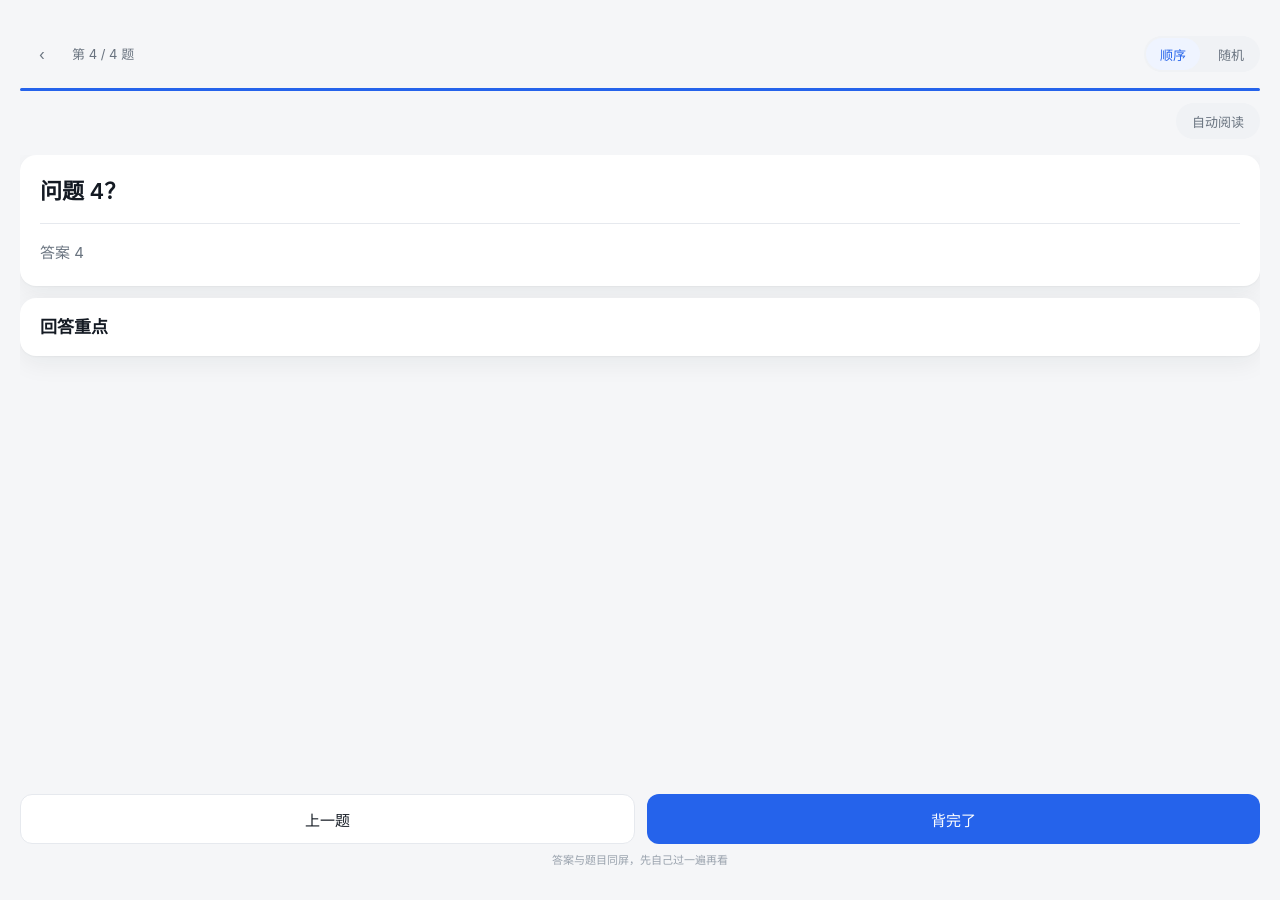
it: Recite · 边界 › 最后一题：按钮变成「背完了」，点完提示这一轮背完了
Check: the text "第 4 / 4 题" is shown, box [72,46,134,62]
Step 1. Click the button "背完了" → (954, 819), box [647,794,1260,844]
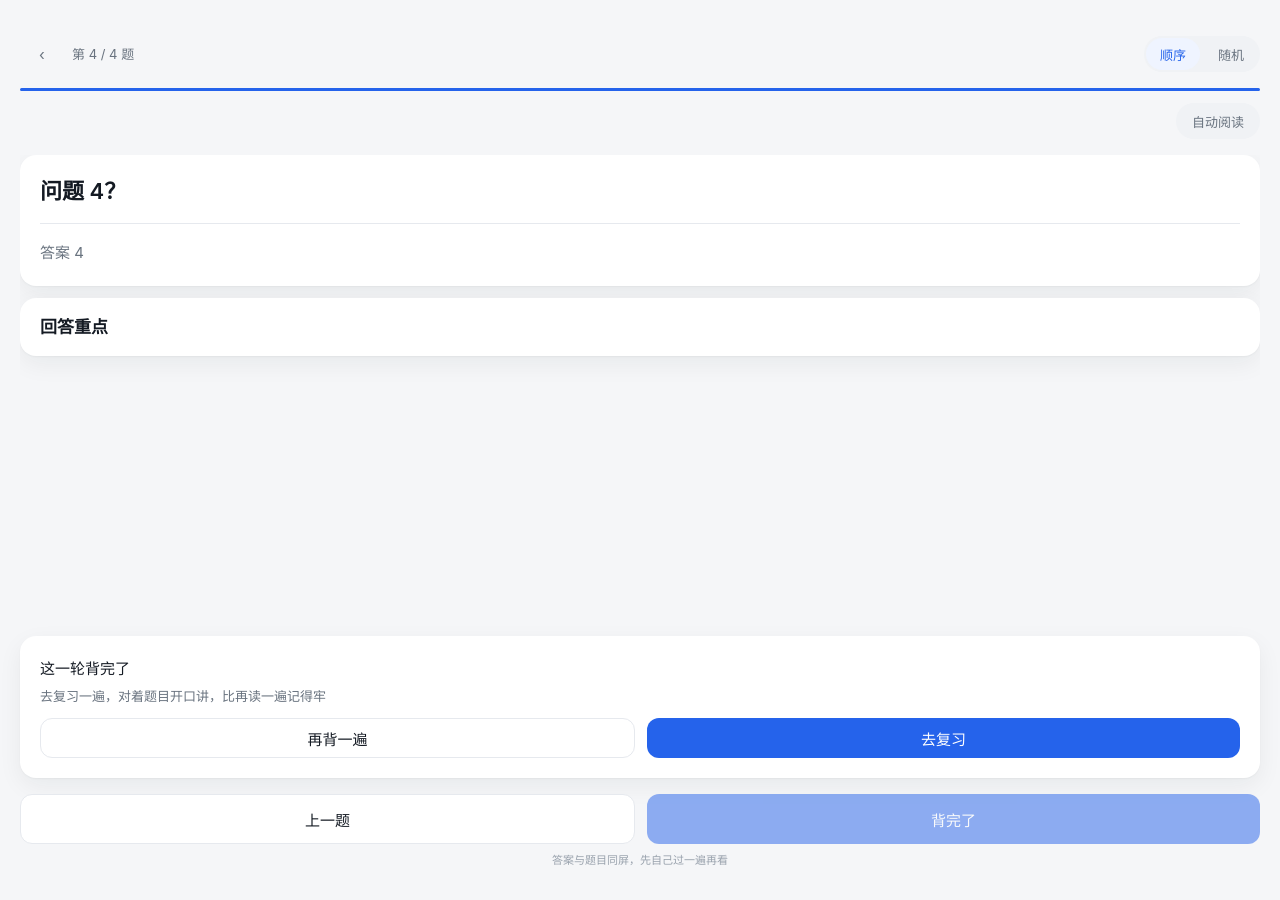
Check: the text "这一轮背完了" is shown, box [40,659,130,678]
